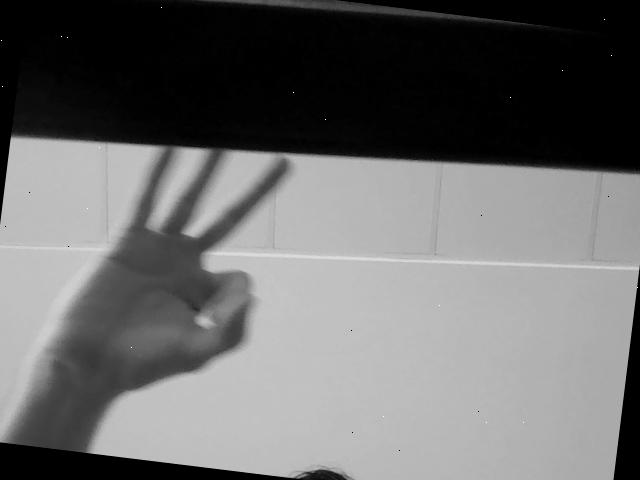OK: (72, 147, 302, 369)
